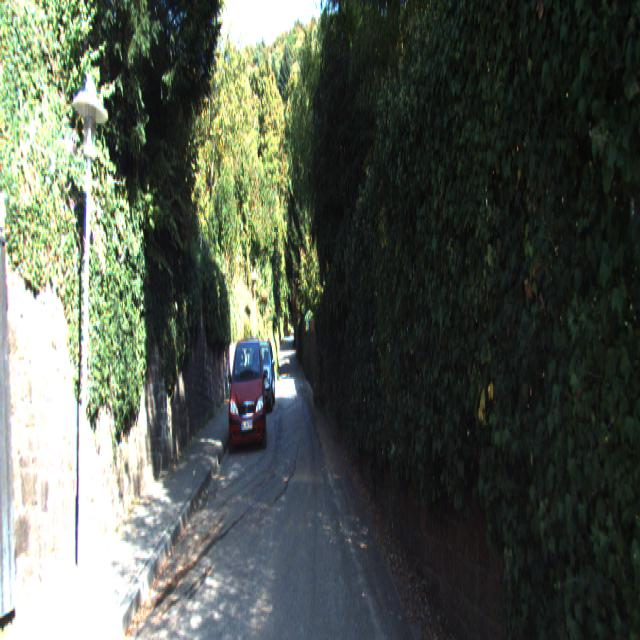Car: (227, 333, 267, 462), (245, 332, 276, 419)
